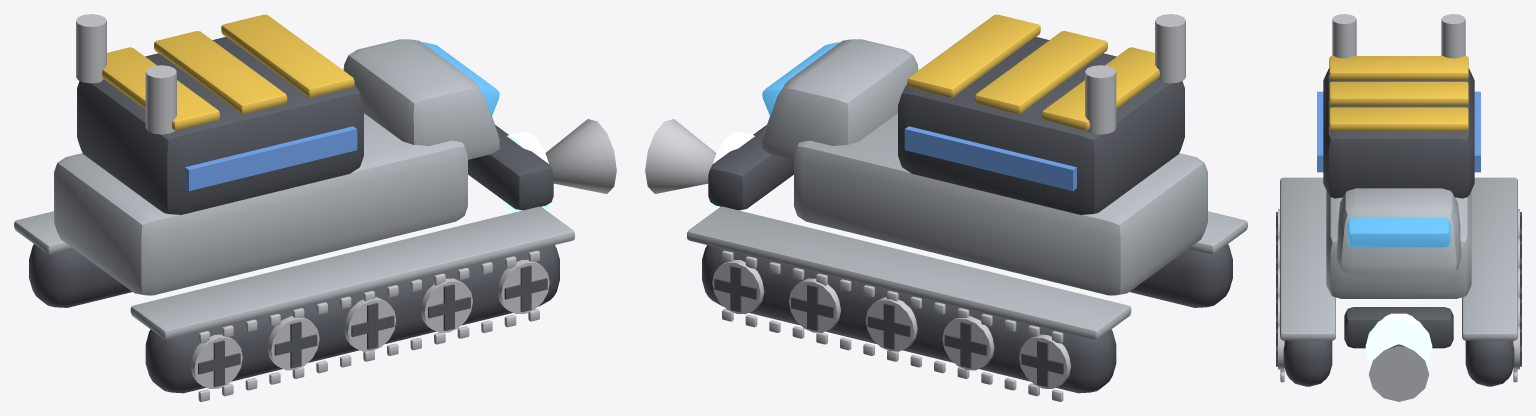
Rendered from hum_harvester.glb.
The picture shows the model from 3 angles, left to right: view 1: azimuth 30°, elevation 25°; view 2: azimuth 150°, elevation 25°; view 3: azimuth 270°, elevation 25°; orthographic projection. The views are drawn at different scales.
Parts seen in each view (by area): view 1: hum_harvester, wheel_r1_m, wheel_r2_m, wheel_r0_m, wheel_r3_m, wheel_r4_m, treadb_r_m, treadf_r_m; view 2: hum_harvester, wheel_l1_m, wheel_l2_m, wheel_l0_m, wheel_l3_m, wheel_l4_m, treadb_l_m, treadf_l_m; view 3: hum_harvester, wheel_l4_m, wheel_r4_m.
Part boxes in pixels (box(x1,y1,x2,y2)): hum_harvester: box(14, 14, 616, 393); wheel_r1_m: box(267, 316, 319, 370); wheel_r2_m: box(344, 297, 396, 351); wheel_r0_m: box(191, 334, 242, 388); wheel_r3_m: box(421, 278, 472, 332); wheel_r4_m: box(497, 259, 549, 314); treadb_r_m: box(198, 309, 539, 401); treadf_r_m: box(198, 250, 539, 343); hum_harvester: box(645, 14, 1247, 393); wheel_l1_m: box(942, 316, 994, 370); wheel_l2_m: box(865, 297, 917, 351); wheel_l0_m: box(1019, 334, 1070, 388); wheel_l3_m: box(789, 278, 840, 332); wheel_l4_m: box(712, 259, 764, 314); treadb_l_m: box(722, 309, 1063, 401); treadf_l_m: box(722, 250, 1063, 343); hum_harvester: box(1280, 14, 1517, 401); wheel_l4_m: box(1513, 326, 1521, 369); wheel_r4_m: box(1276, 326, 1284, 369).
Size of the model in its own units: 1.51 by 0.854 by 0.81.
